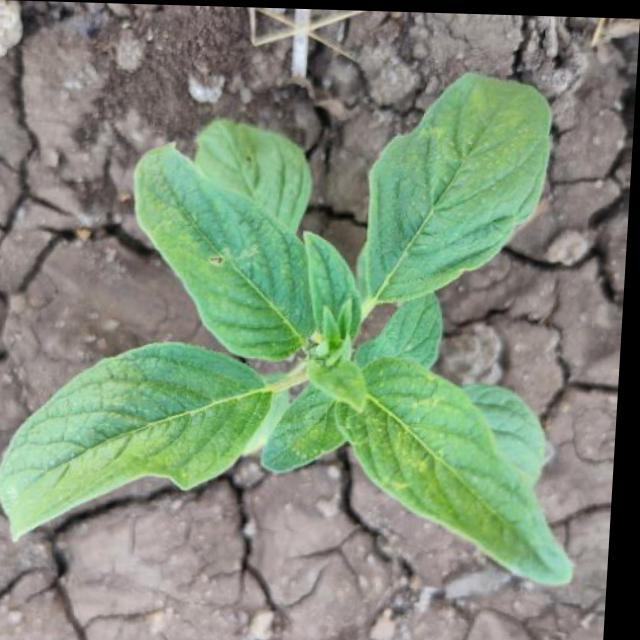crop: (0, 54, 605, 590)
